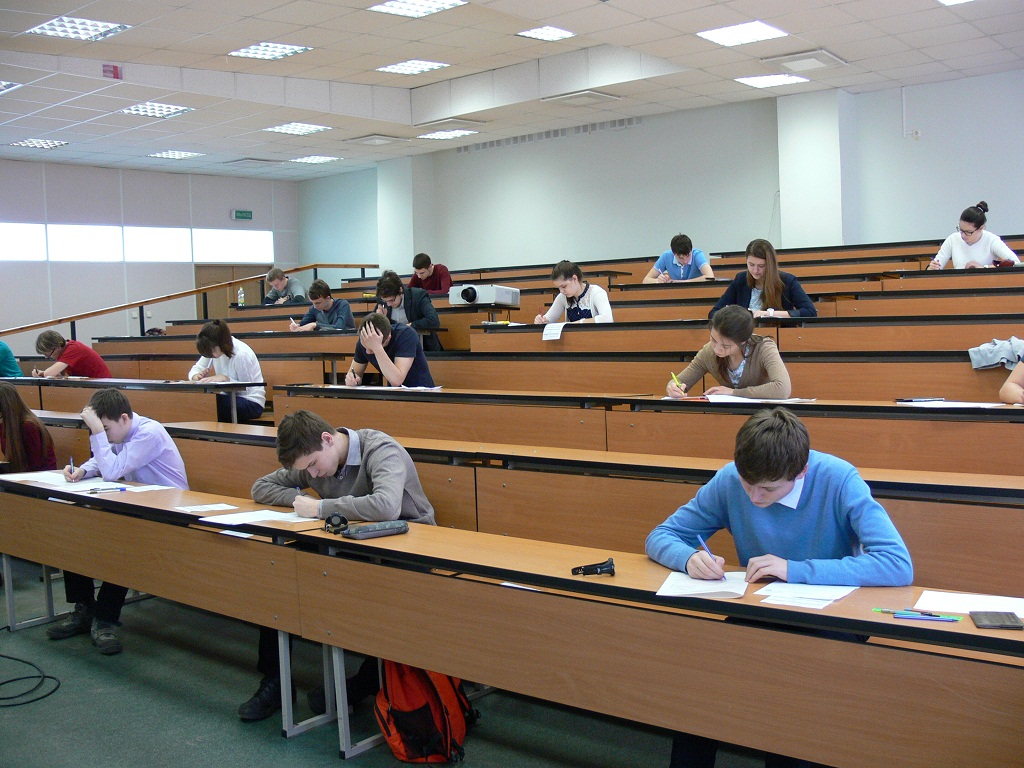students: (646, 405, 913, 589), (250, 408, 436, 526), (64, 385, 190, 489), (665, 305, 796, 402), (710, 238, 818, 321), (184, 319, 267, 422), (343, 311, 436, 387), (927, 204, 1022, 272), (371, 272, 444, 354), (532, 260, 615, 327), (1, 381, 57, 467), (25, 330, 114, 378), (641, 233, 717, 284), (288, 280, 355, 332), (402, 253, 454, 295), (256, 268, 308, 306)
